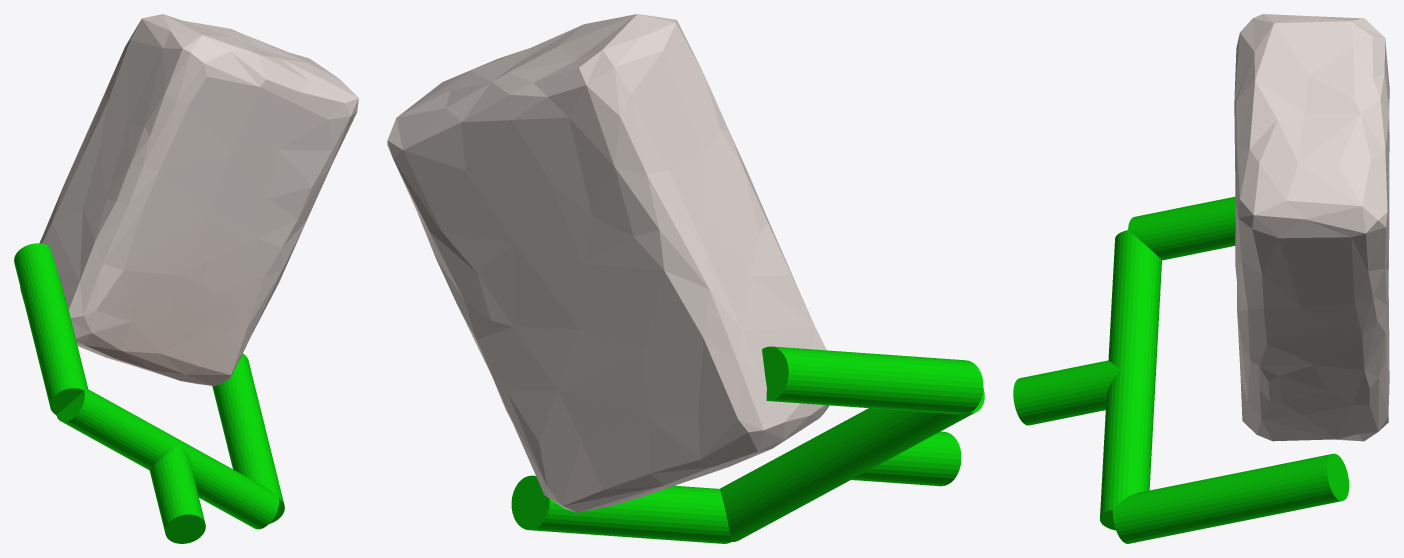
The model's file is round_001_trial_001.obj.
The picture shows the model from 3 angles, left to right: view 1: azimuth 30°, elevation 25°; view 2: azimuth 150°, elevation 25°; view 3: azimuth 270°, elevation 25°; orthographic projection. The views are drawn at different scales.
Parts seen in each view (by area): view 1: geometry_0, geometry_1; view 2: geometry_0, geometry_1; view 3: geometry_0, geometry_1.
Part boxes in pixels (<box>): geometry_0: <box>20,14,358,386</box>; geometry_1: <box>14,243,284,543</box>; geometry_0: <box>387,14,829,512</box>; geometry_1: <box>511,346,984,543</box>; geometry_0: <box>1234,14,1389,441</box>; geometry_1: <box>1013,196,1349,543</box>.
Bounding box in the file's own units: 0.0995 × 0.1185 × 0.0779.
